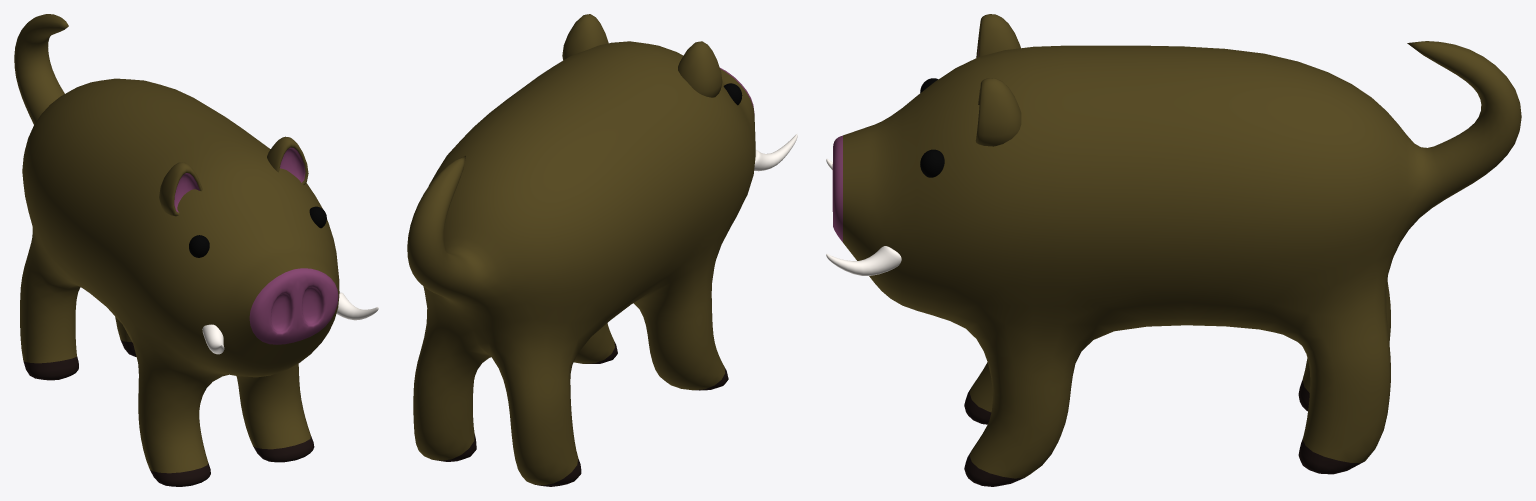
File: chapter10.fbx
The picture shows the model from 3 angles, left to right: view 1: azimuth 30°, elevation 25°; view 2: azimuth 150°, elevation 25°; view 3: azimuth 270°, elevation 25°; orthographic projection. The views are drawn at different scales.
Visible parts, largest first — view 1: tusk; view 2: tusk; view 3: tusk.
Part boxes in pixels (x1,y1,x2,y2): tusk: [14, 14, 378, 486]; tusk: [407, 14, 797, 486]; tusk: [826, 14, 1521, 486].
Bounding box in the file's own units: 182 × 294 × 457.
